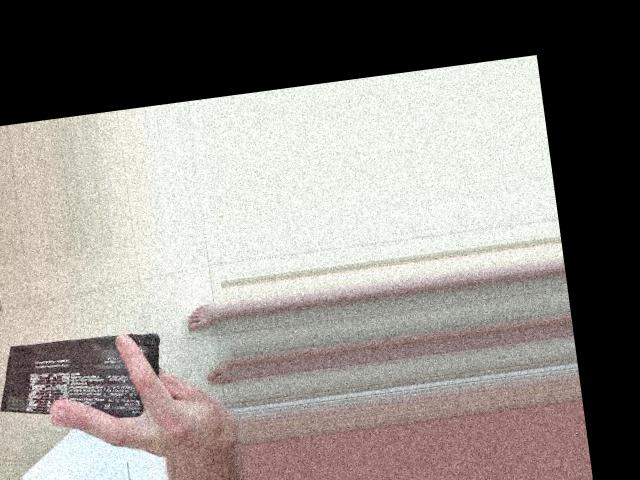chocolate: (7, 228, 135, 431)
